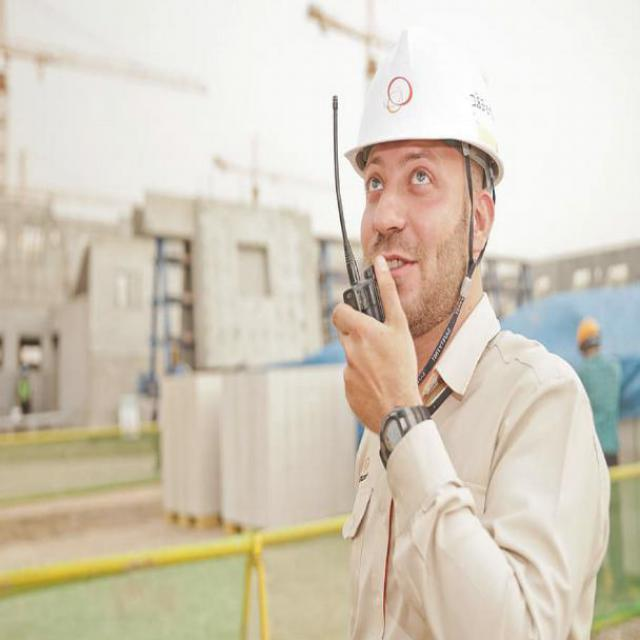helmet: (342, 15, 512, 346)
